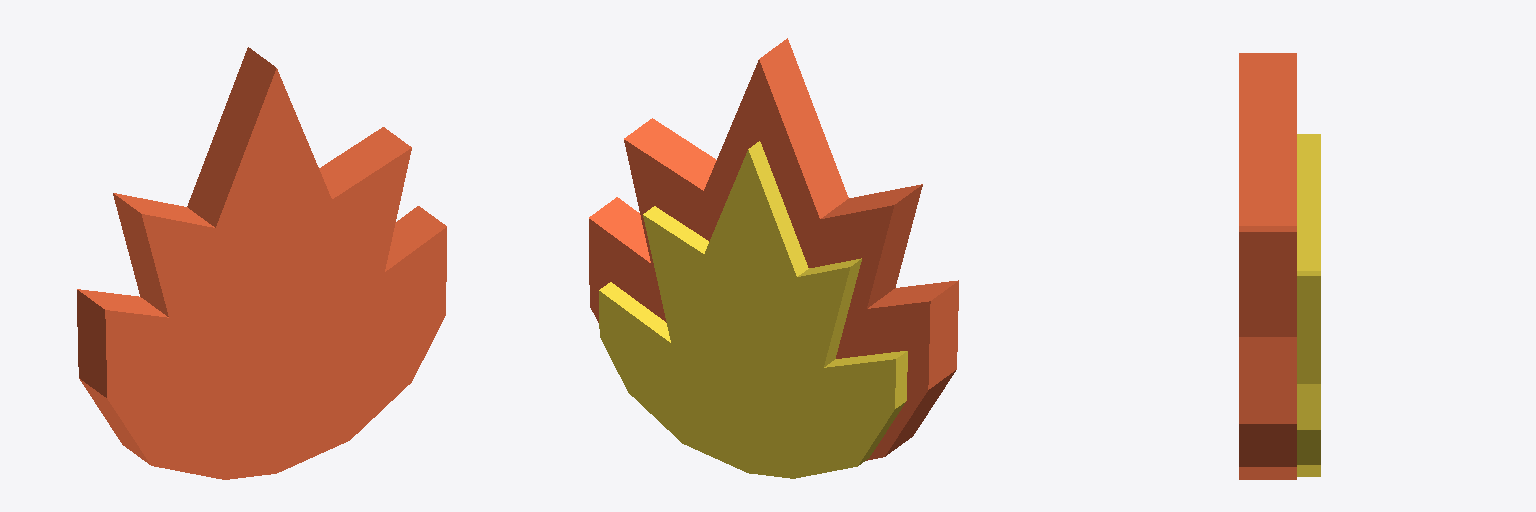
The picture shows the model from 3 angles: view 1: azimuth 30°, elevation 25°; view 2: azimuth 150°, elevation 25°; view 3: azimuth 270°, elevation 25°; orthographic projection.
Visible parts, largest first — view 1: circle; view 2: circle; view 3: circle.
Boxes of the visible parts, box(x1,y1,x2,y2) form: circle: box(77, 47, 446, 479); circle: box(589, 38, 958, 478); circle: box(1239, 53, 1320, 479).
Bounding box in the file's own units: 1.79 × 2.03 × 0.3667.
1 materials, 1 textured.